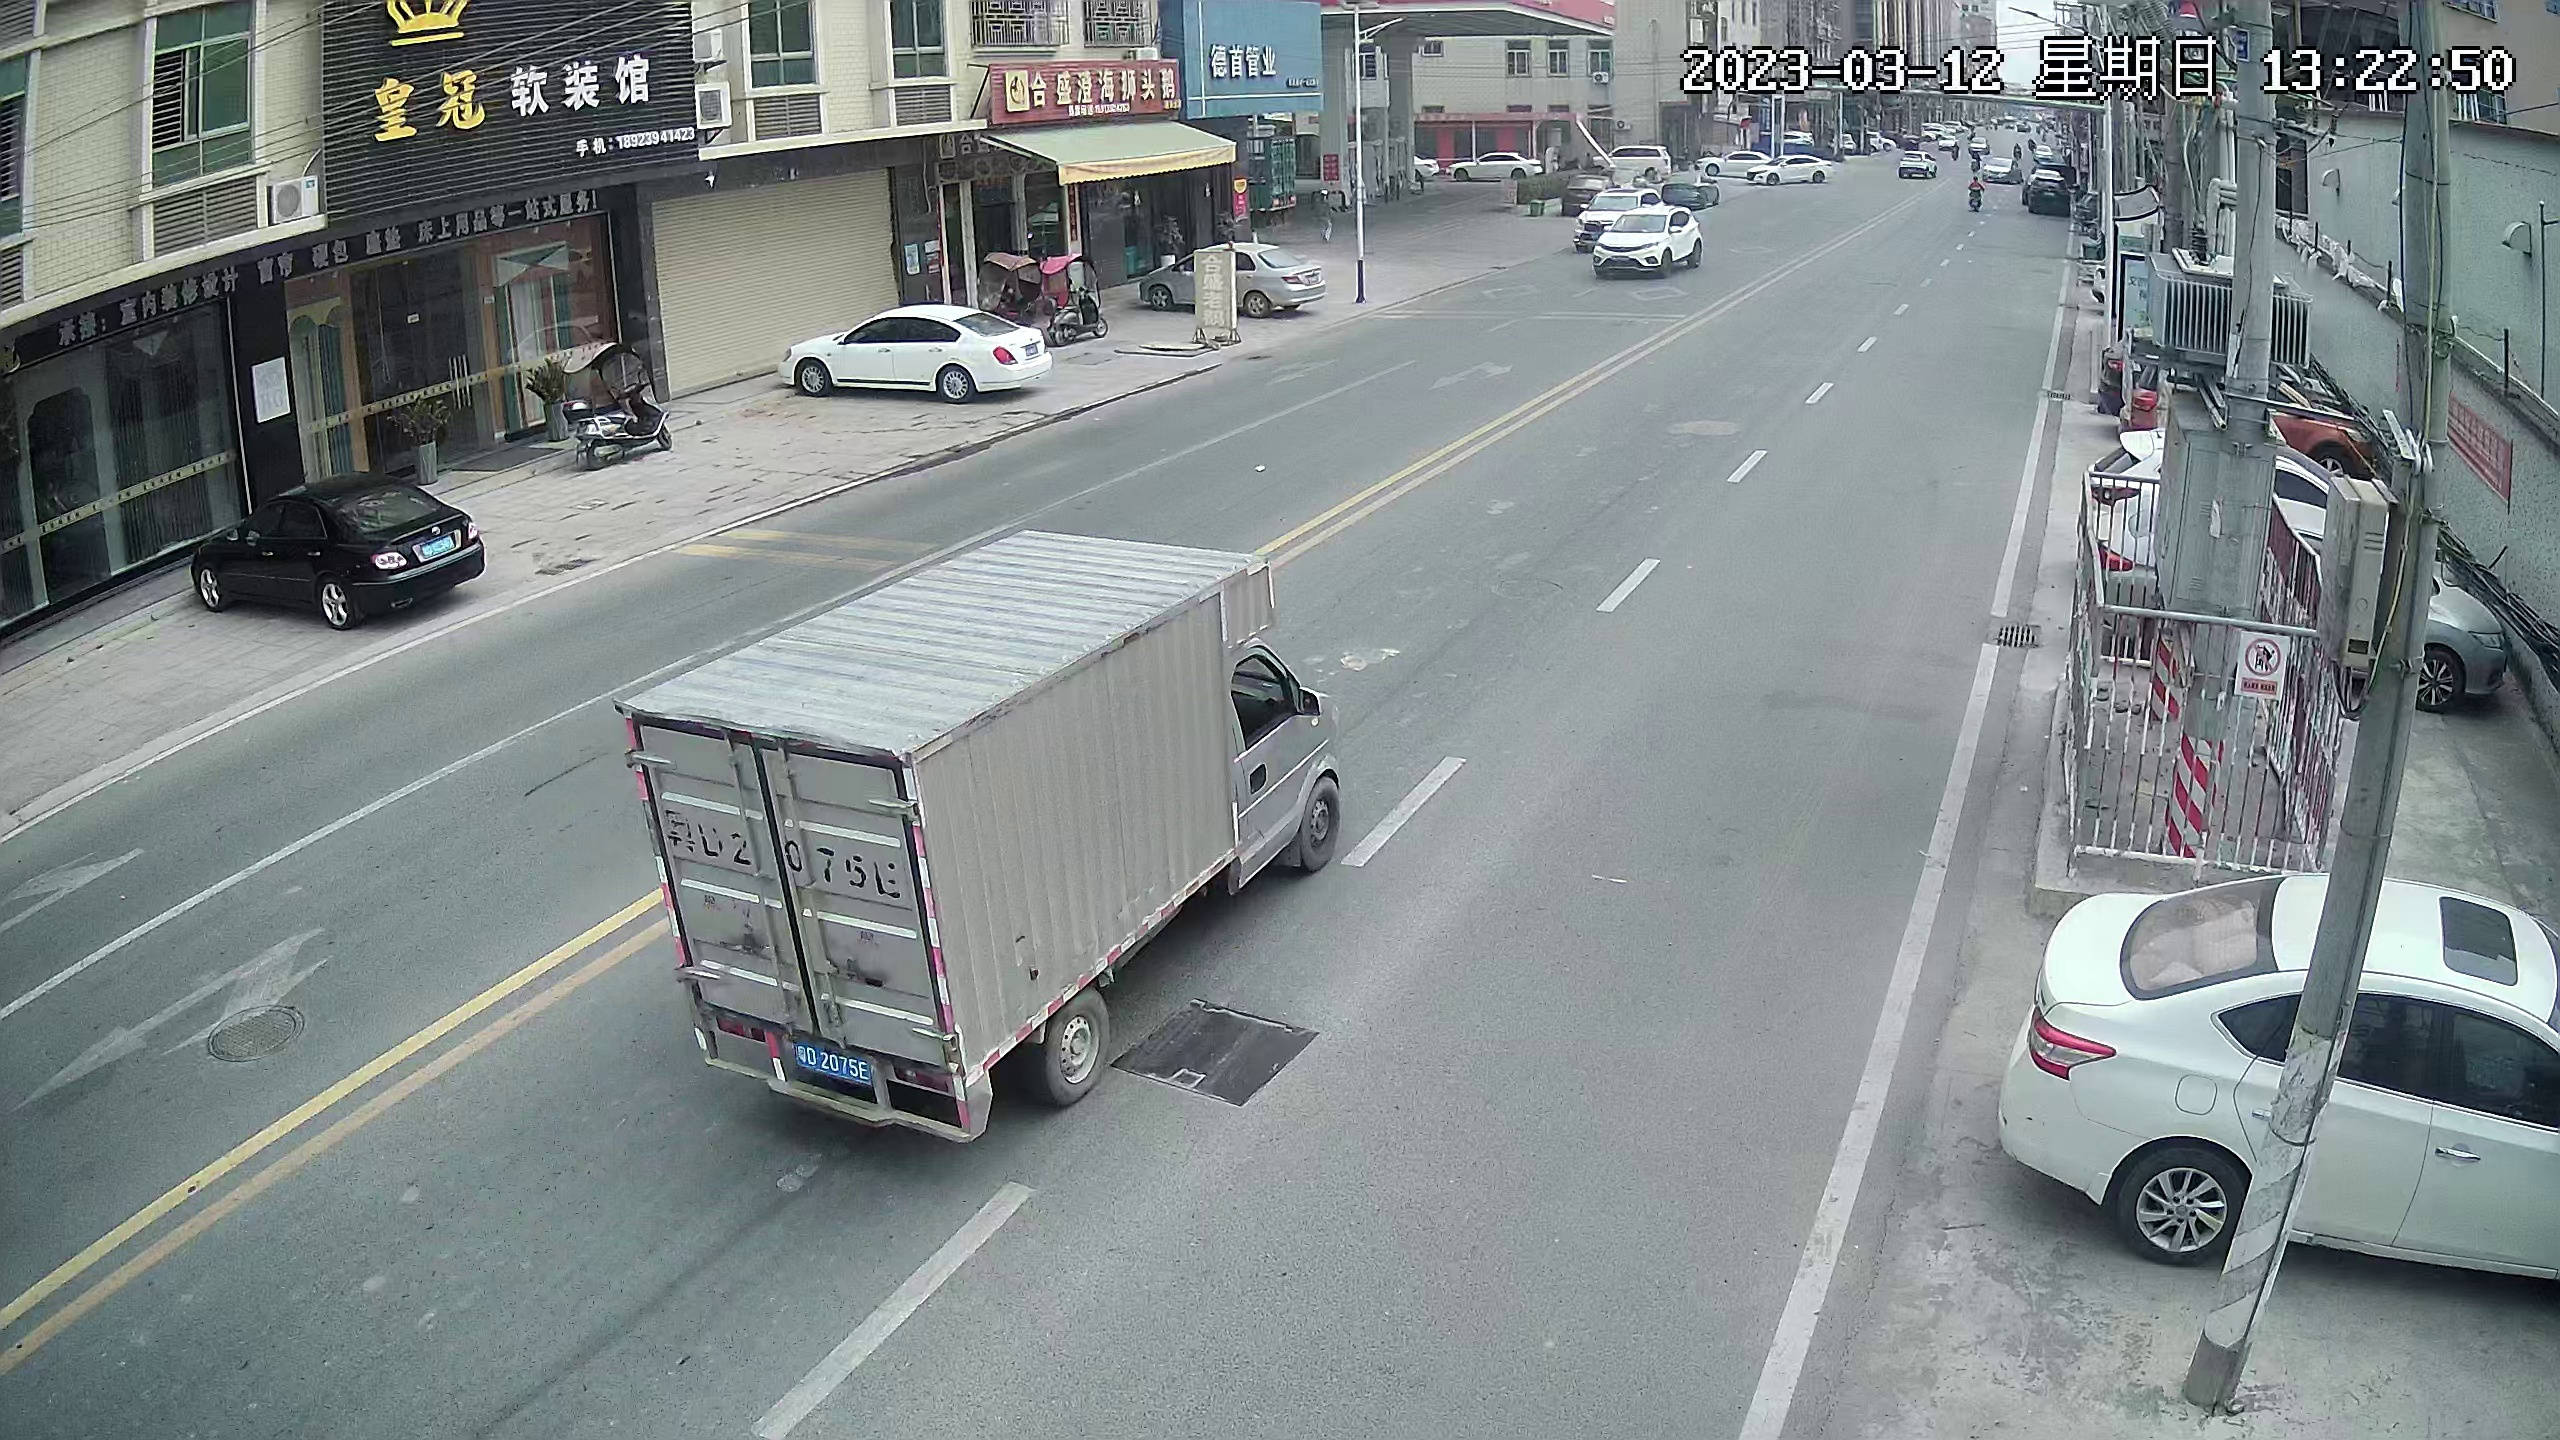motorcycle: (554, 339, 673, 469), (1044, 255, 1104, 352), (978, 244, 1036, 334), (1959, 169, 1985, 215)
sedan: (2041, 870, 2560, 1317), (2087, 519, 2498, 695), (185, 478, 484, 628), (777, 308, 1050, 415), (2126, 373, 2360, 464), (2105, 443, 2374, 522), (1143, 250, 1326, 322), (1612, 137, 1672, 185), (1445, 156, 1537, 186), (1702, 144, 1758, 185), (2027, 167, 2068, 215), (1760, 162, 1829, 188), (1570, 172, 1612, 213), (1897, 148, 1936, 185), (1987, 158, 2011, 185)
suv: (1604, 209, 1704, 283)
truck: (628, 513, 1319, 1145)
